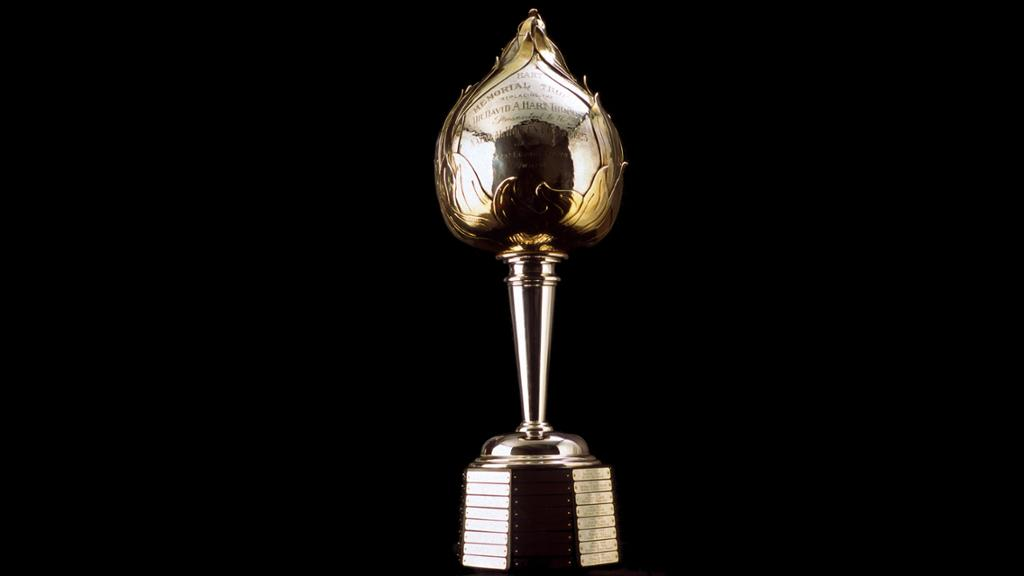trophy: (428, 4, 635, 572)
